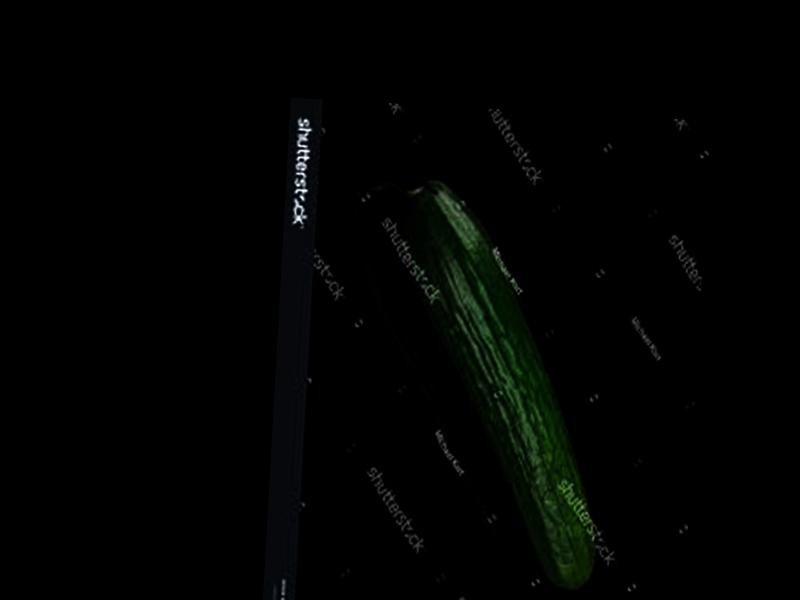Cucumber: (376, 178, 617, 594)
